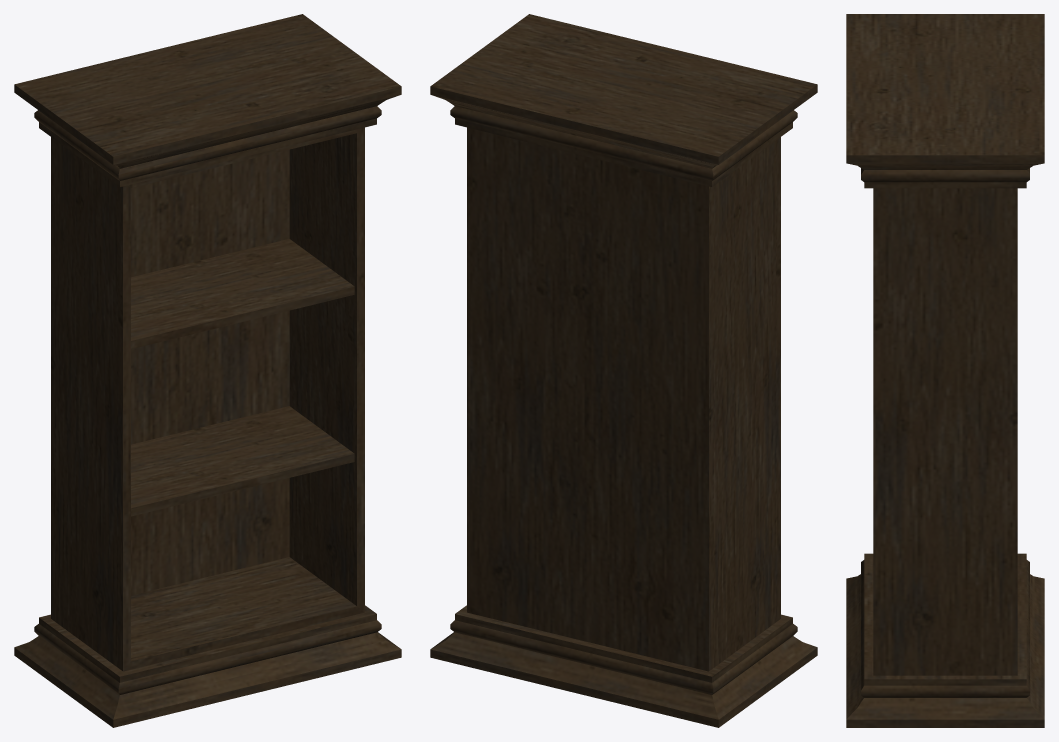
File: shelf_mp_2_3.dae
3 views of the same model, side by side, from view 1: azimuth 30°, elevation 25°; view 2: azimuth 150°, elevation 25°; view 3: azimuth 270°, elevation 25° (orthographic).
Visible parts, largest first — view 1: shelf_mp_2_3; view 2: shelf_mp_2_3; view 3: shelf_mp_2_3.
Part boxes in pixels (box(x1,y1,x2,y2)): shelf_mp_2_3: box(14, 14, 401, 727); shelf_mp_2_3: box(430, 14, 817, 727); shelf_mp_2_3: box(846, 14, 1044, 727).
Bounding box in the file's own units: 0.74 × 0.44 × 1.4.
1 material, 1 textured.
